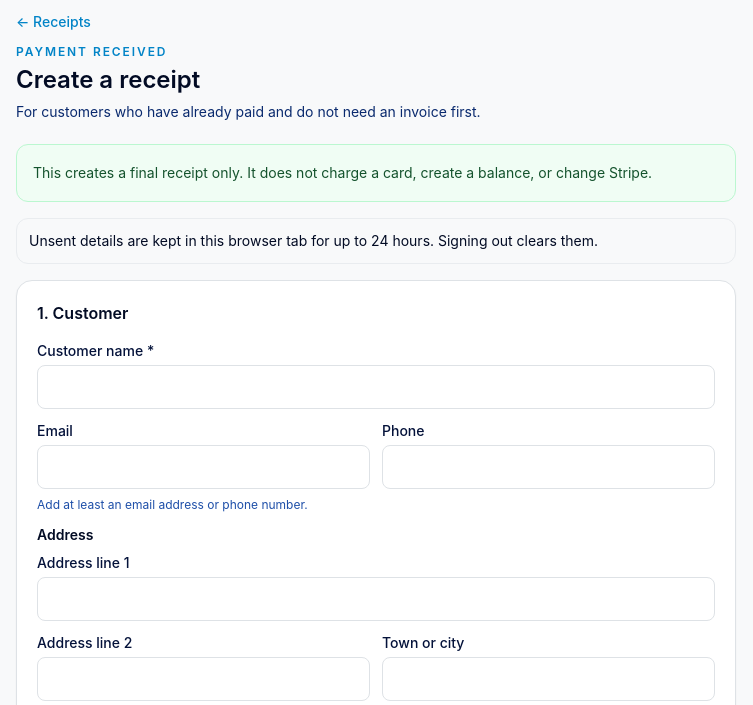
ReceiptEditorPage › discards an unsent draft only after explicit confirmation and keeps it when cancelled
Type "TEST ONLY - explicit discard" into the field labelled "Customer name *". click: (376, 387)
box: [37,365,715,409]
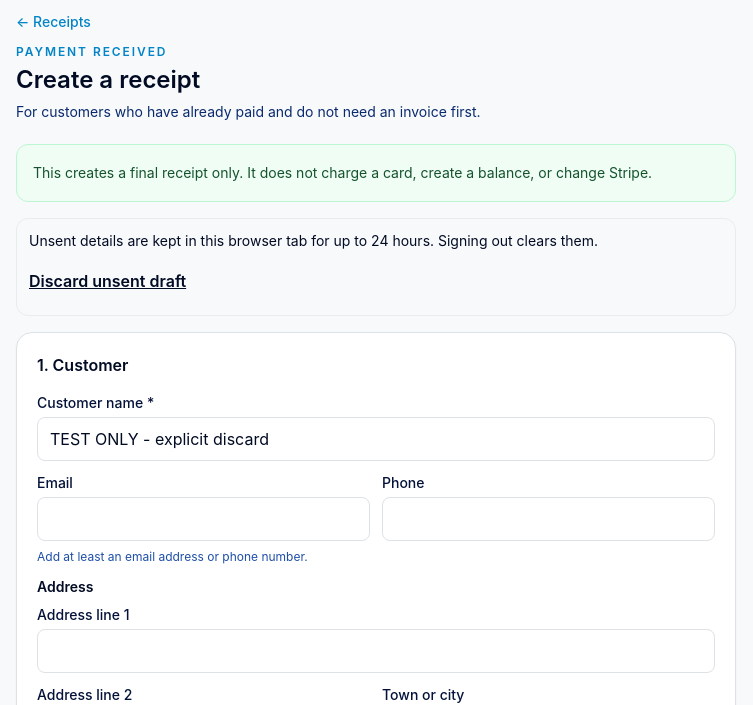
Click the button "Discard unsent draft". click: (108, 281)
box: [29,259,186,303]
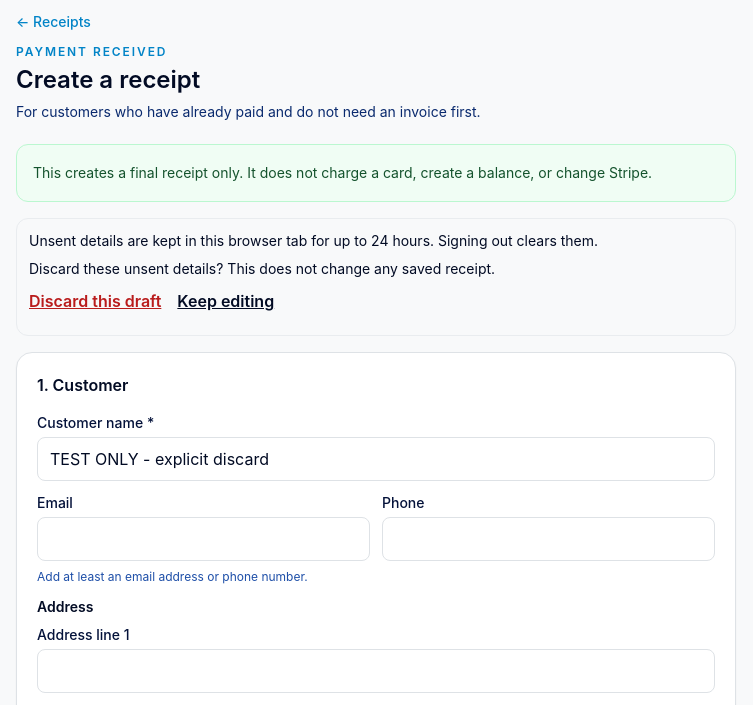
Click the button "Keep editing". click: (226, 301)
box: [177,279,274,323]
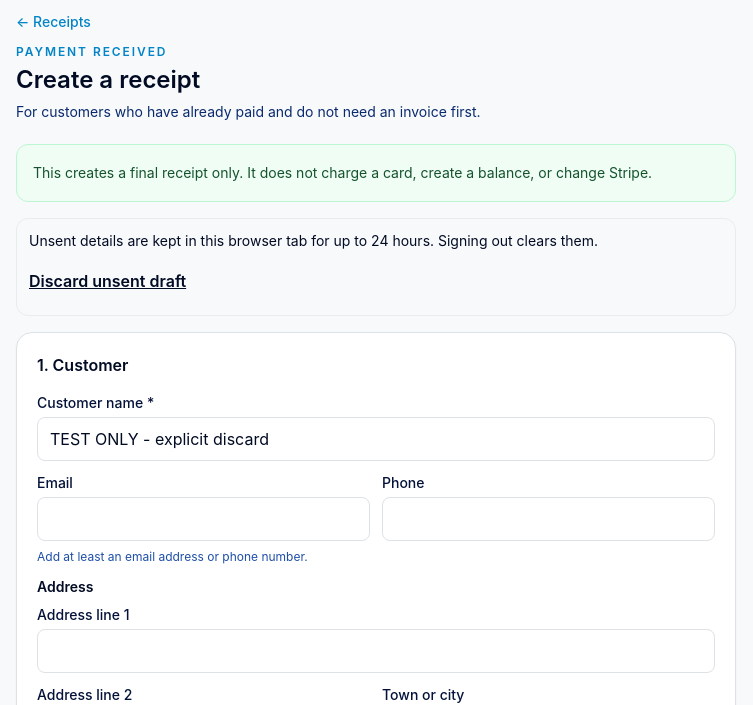
Click the button "Discard unsent draft". click: (108, 281)
box: [29,259,186,303]
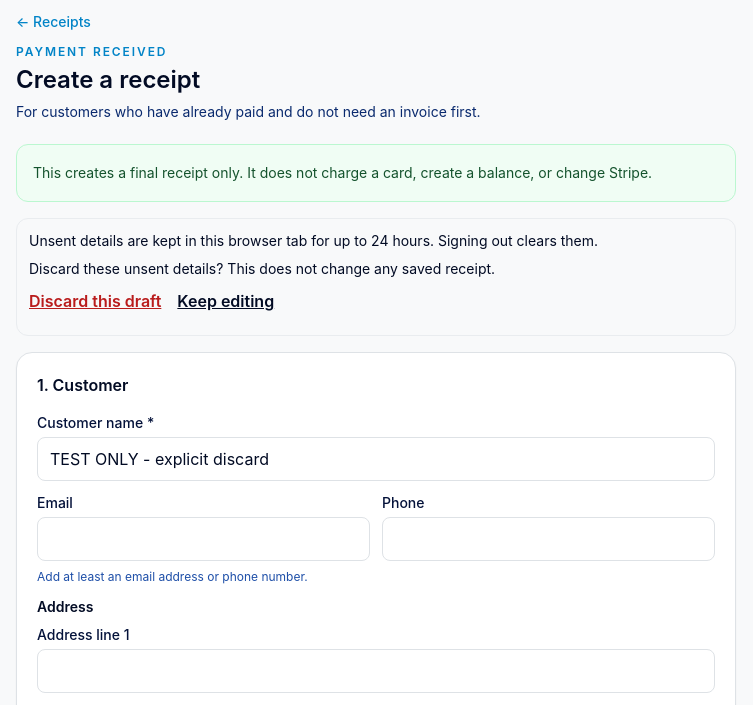
Click the button "Discard this draft". click: (95, 301)
box: [29,279,161,323]
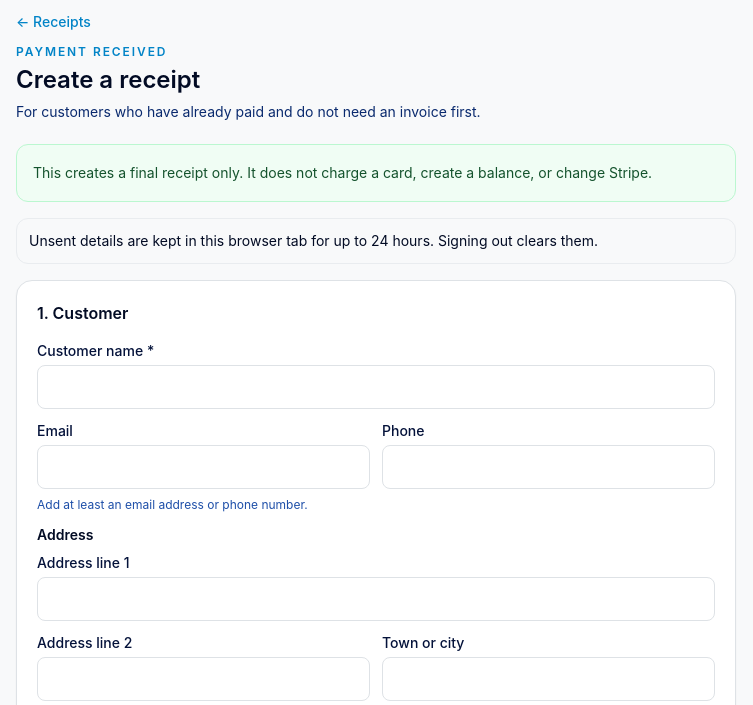
Expected: the field labelled "Customer name *" is empty, [37,365,715,409]
